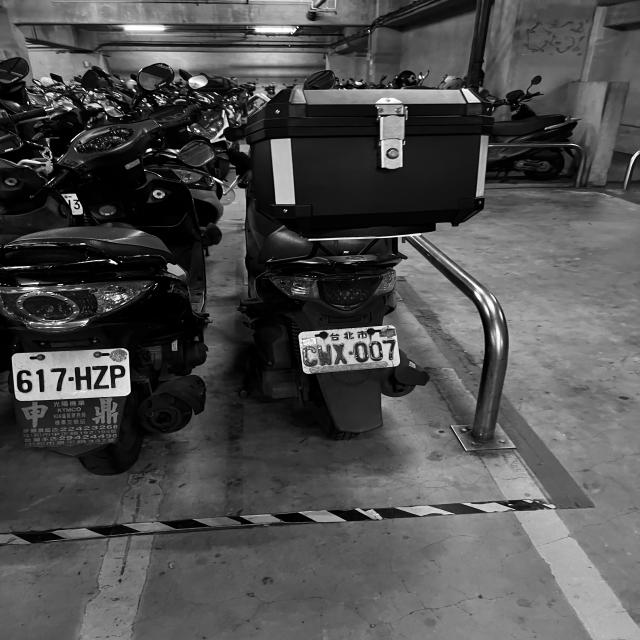-: (68, 376, 74, 382)
0: (353, 340, 371, 364), (368, 340, 385, 362), (348, 350, 354, 356)
1: (36, 368, 48, 394)
6: (16, 368, 32, 393)
7: (50, 368, 66, 392), (382, 339, 398, 361)
C: (302, 344, 318, 367)
H: (74, 366, 92, 390)
P: (110, 364, 126, 388)
W: (316, 343, 333, 366)
X: (332, 344, 349, 364)
Z: (92, 366, 110, 390)
plate: (14, 353, 132, 398), (300, 331, 399, 367)
